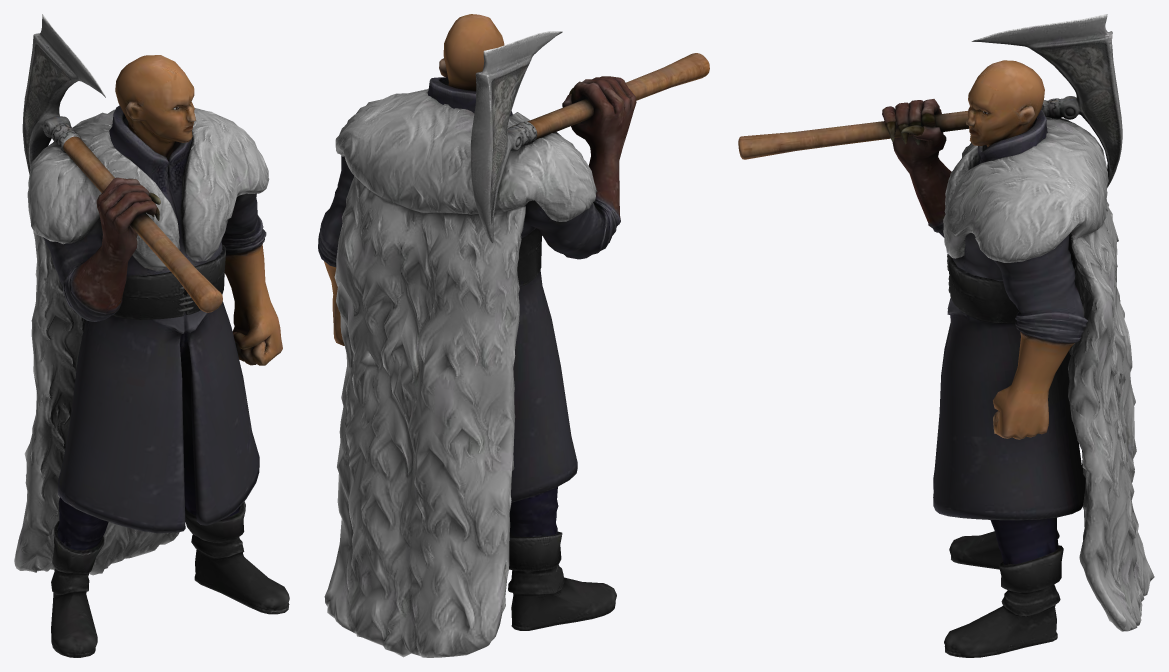
Rendered from MZ4250 - Izek.glb.
The picture shows the model from 3 angles, left to right: view 1: azimuth 30°, elevation 25°; view 2: azimuth 150°, elevation 25°; view 3: azimuth 270°, elevation 25°; orthographic projection. The views are drawn at different scales.
Visible parts, largest first — view 1: Izek; view 2: Izek; view 3: Izek.
Boxes of the visible parts, <box> form: Izek: <box>14,14,289,657</box>; Izek: <box>318,14,709,657</box>; Izek: <box>738,14,1154,657</box>.
Size of the model in its own units: 0.5119 by 1.18 by 0.7775.
1 material, 1 textured.
